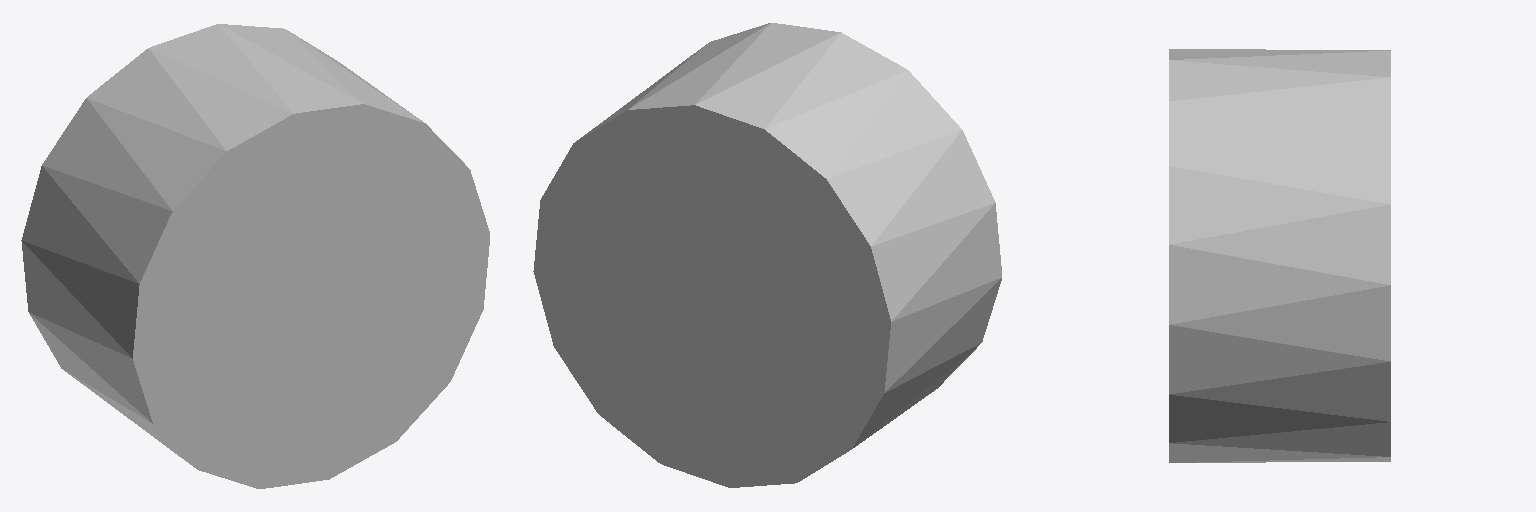
File: weldtool2.obj
3 views of the same model, side by side, from view 1: azimuth 30°, elevation 25°; view 2: azimuth 150°, elevation 25°; view 3: azimuth 270°, elevation 25° (orthographic).
Bounding box in the file's own units: 0.0297 × 0.0297 × 0.016.